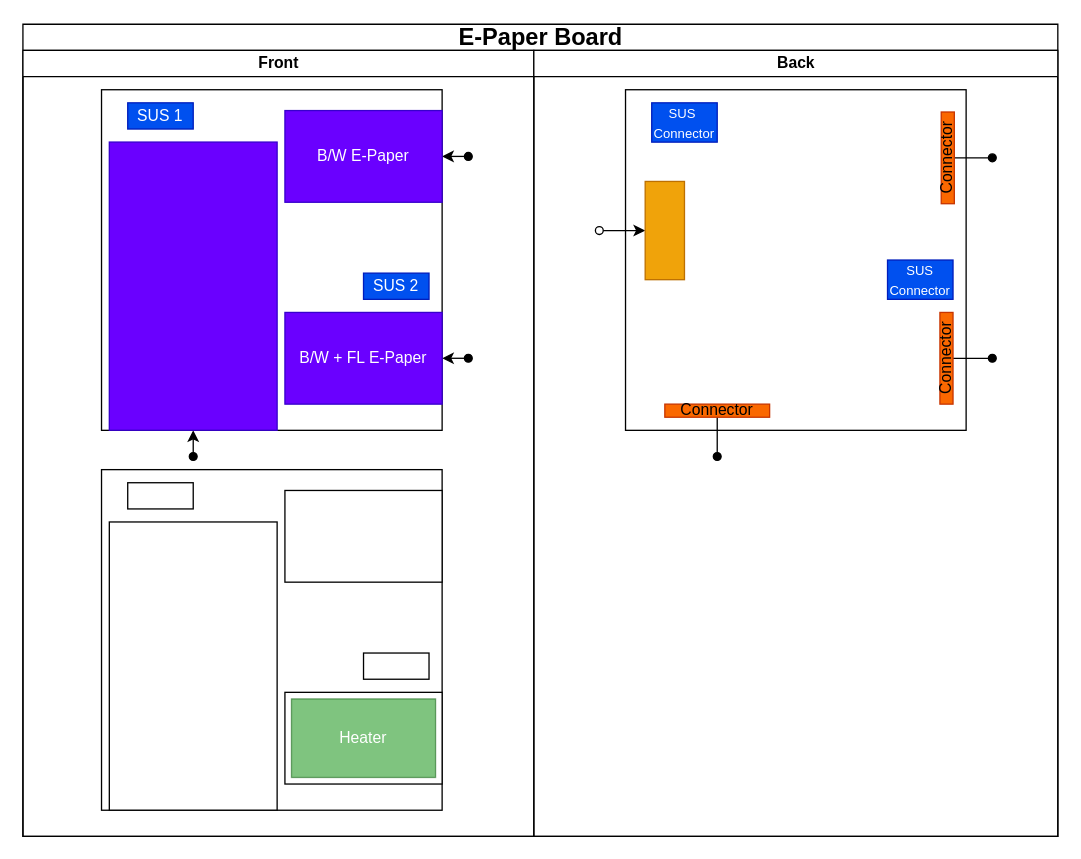
Image size: 1081x859. Some labels were removed from this diagram. Each missing label, with the centre of its shape:
"Board Connector" belongs at point (664, 230).
"COLOUR E-Paper" belongs at point (192, 285).
